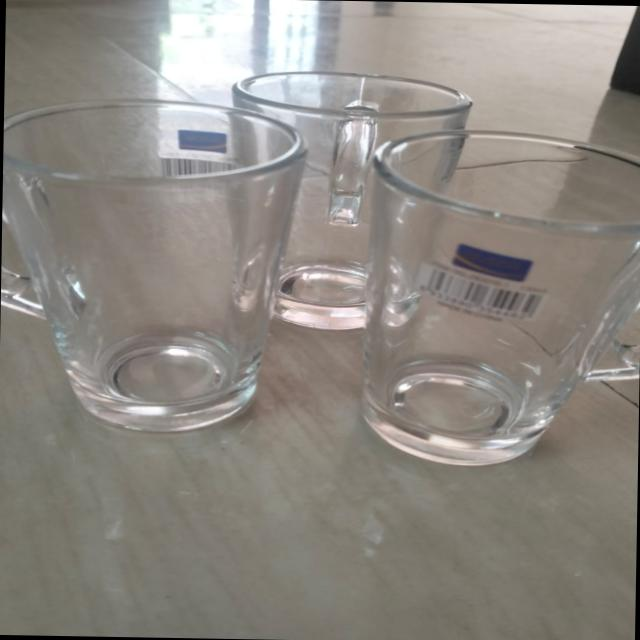glass-VX4N: (0, 97, 312, 432), (369, 128, 640, 469), (238, 75, 474, 332)
